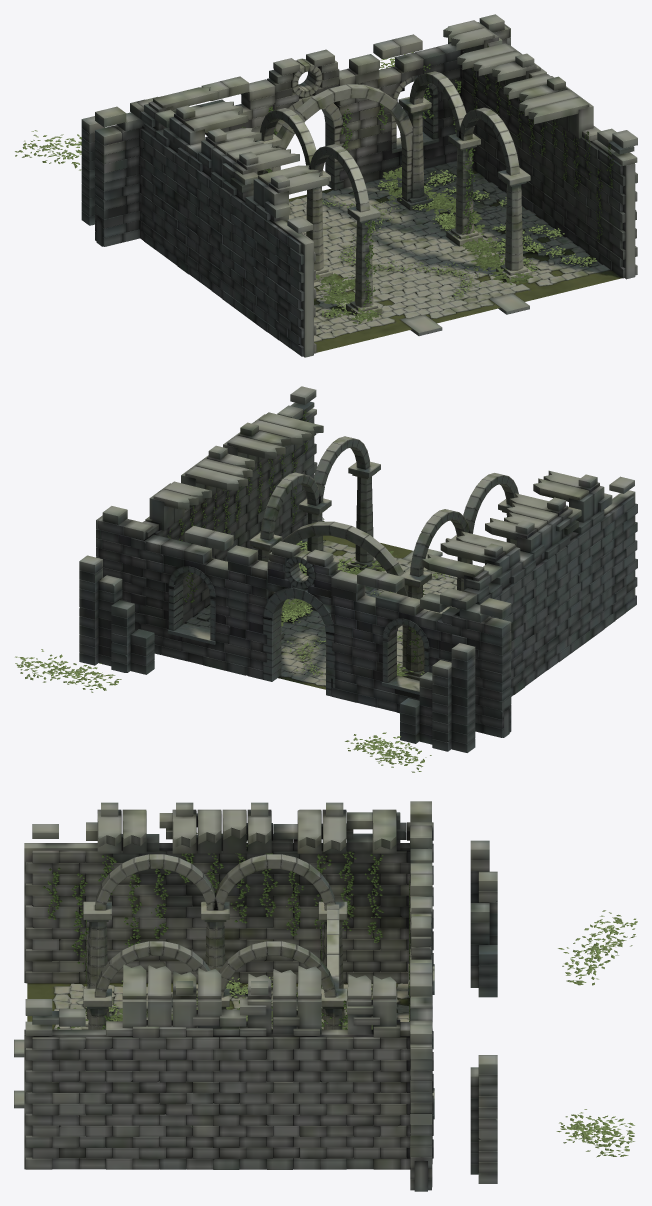
Rendered from archive-hall.glb.
3 views of the same model, one above another, from view 1: azimuth 30°, elevation 25°; view 2: azimuth 150°, elevation 25°; view 3: azimuth 270°, elevation 25° (orthographic). The views are drawn at different scales.
Visible parts, largest first — view 1: ArchiveHall_Walls, ArchiveHall_Floor, ArchiveHall_Arcades, ArchiveHall_Foliage, PD11_Foliage_archive-hall; view 2: ArchiveHall_Walls, ArchiveHall_Arcades, ArchiveHall_Floor, ArchiveHall_Foliage, PD11_Foliage_archive-hall; view 3: ArchiveHall_Walls, ArchiveHall_Arcades, ArchiveHall_Foliage, ArchiveHall_Floor.
Part boxes in pixels (x1,y1,x2,y2): ArchiveHall_Walls: [81, 14, 637, 357]; ArchiveHall_Floor: [285, 160, 622, 352]; ArchiveHall_Arcades: [206, 58, 532, 315]; ArchiveHall_Foliage: [15, 45, 613, 322]; PD11_Foliage_archive-hall: [316, 165, 533, 323]; ArchiveHall_Walls: [79, 386, 637, 752]; ArchiveHall_Arcades: [167, 436, 518, 696]; ArchiveHall_Floor: [184, 535, 457, 689]; ArchiveHall_Foliage: [15, 409, 449, 772]; PD11_Foliage_archive-hall: [281, 551, 424, 676]; ArchiveHall_Walls: [14, 801, 497, 1191]; ArchiveHall_Arcades: [82, 854, 434, 1119]; ArchiveHall_Foliage: [42, 833, 637, 1157]; ArchiveHall_Floor: [27, 982, 409, 1029].
Bounding box in the file's own units: 38.34 × 13.65 × 42.43.
6 materials, 3 textured.
